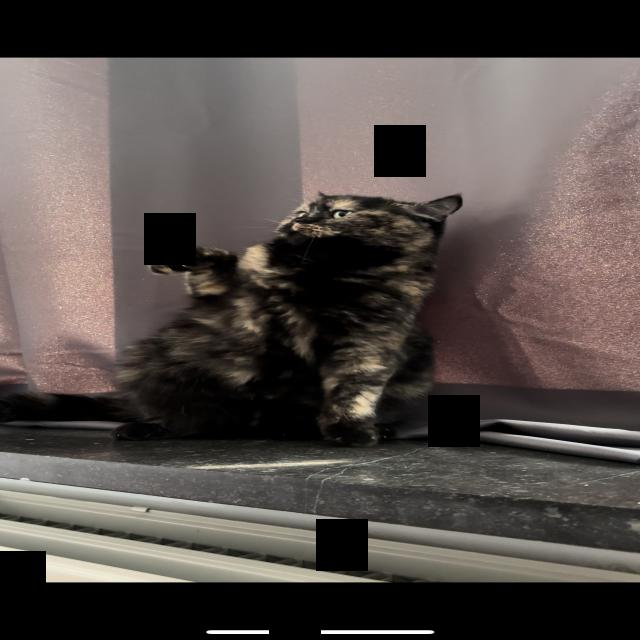authorized: (1, 190, 464, 448)
